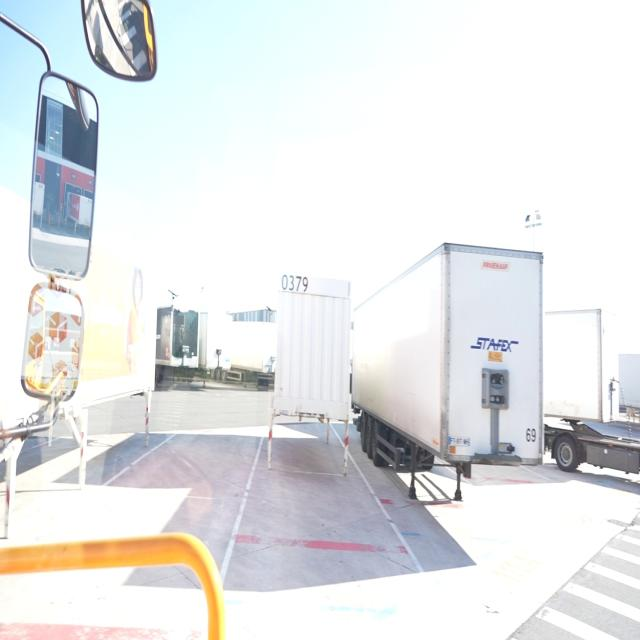Code: (281, 271, 311, 296)
